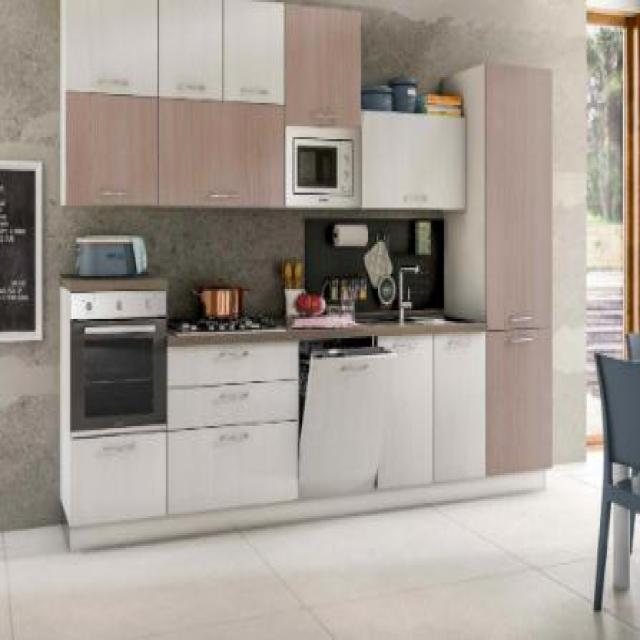dishwasher: (296, 332, 396, 499)
